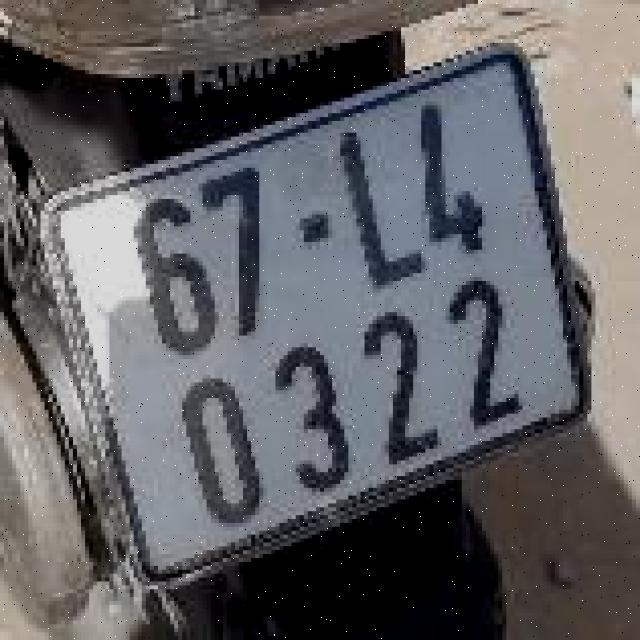0: (182, 363, 268, 538)
2: (358, 306, 444, 470), (450, 279, 534, 443)
3: (272, 332, 368, 499)
4: (415, 88, 492, 259)
6: (132, 191, 216, 363)
7: (200, 162, 266, 341)
L: (322, 126, 423, 294)
